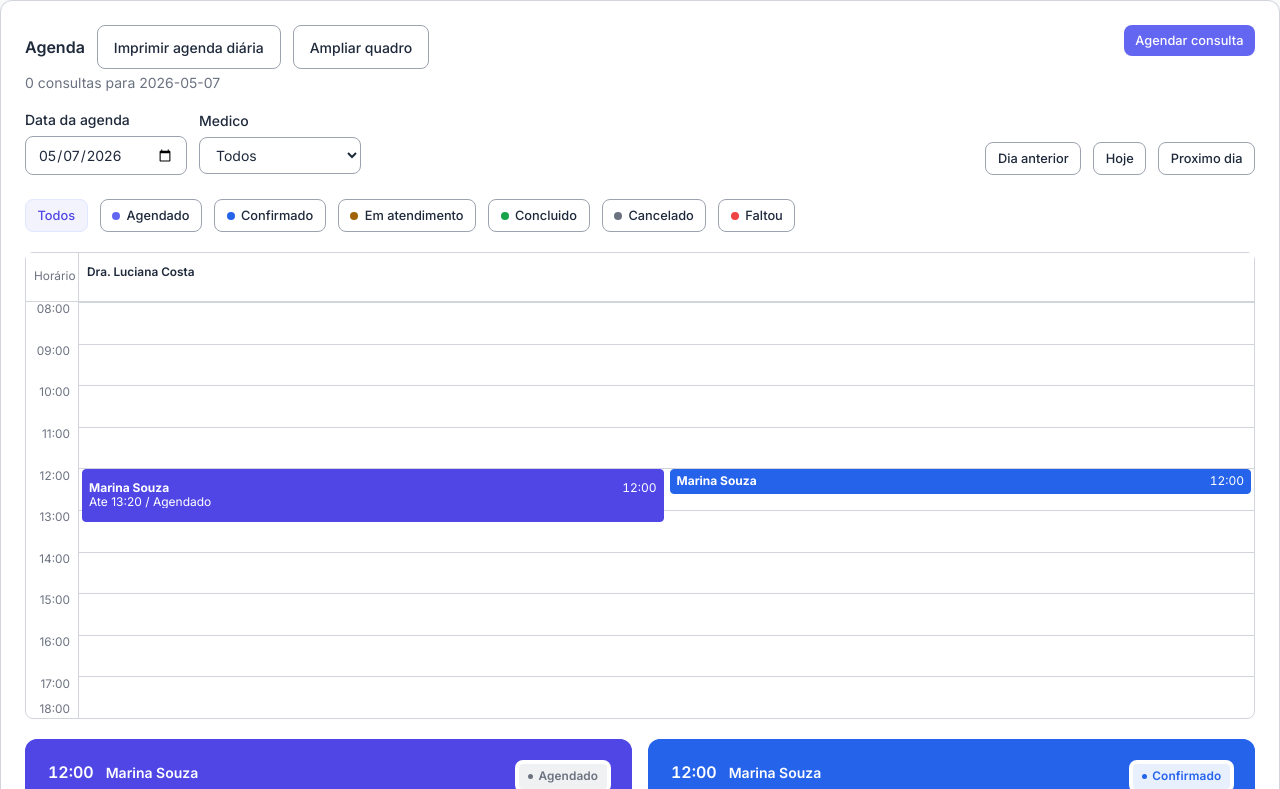
Test case: AppointmentBoard › positions simultaneous appointments side by side and opens editing
This screenshot has width=1280, height=789.
Click the button "Marina Souza 12:00 Ate 13:20 / Agendado" at (129, 488), box x1=82 y1=468 x2=664 y2=522
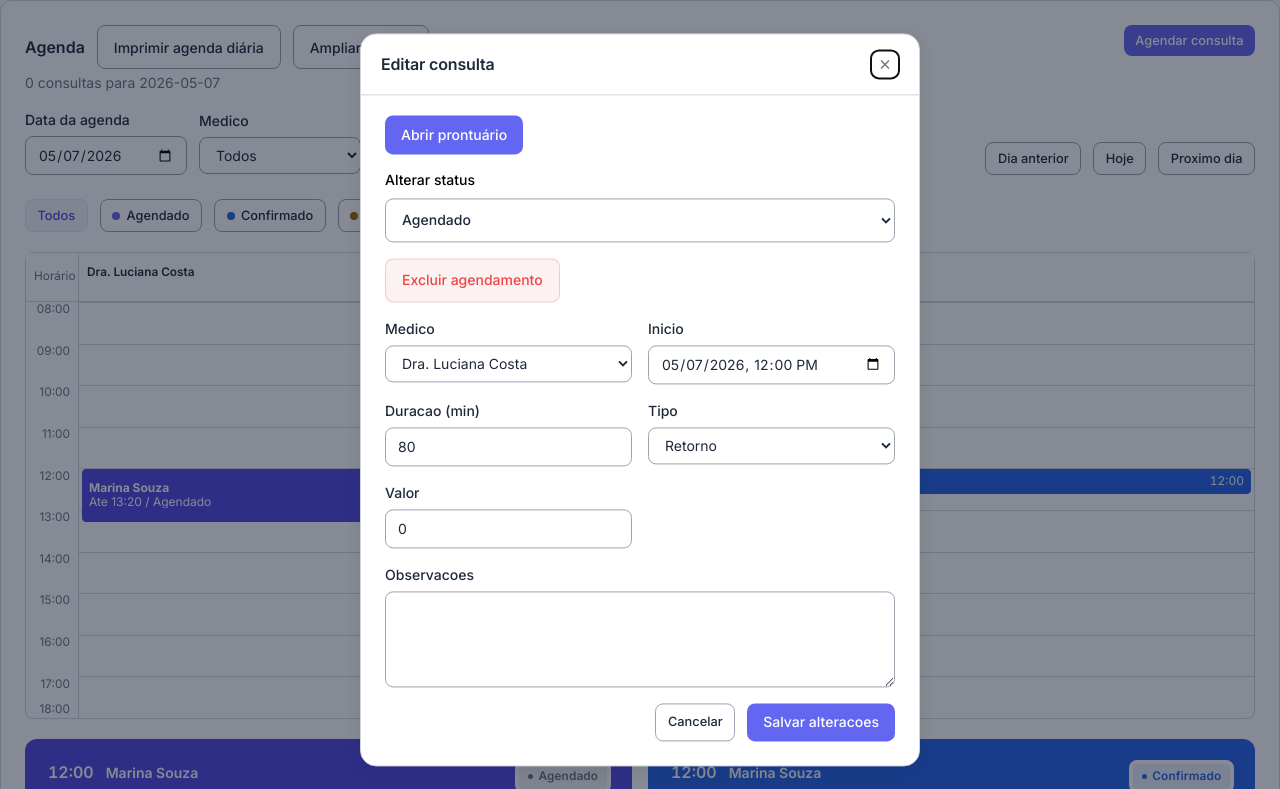
Now the heading "Editar consulta" is shown, box x1=381 y1=52 x2=494 y2=76
